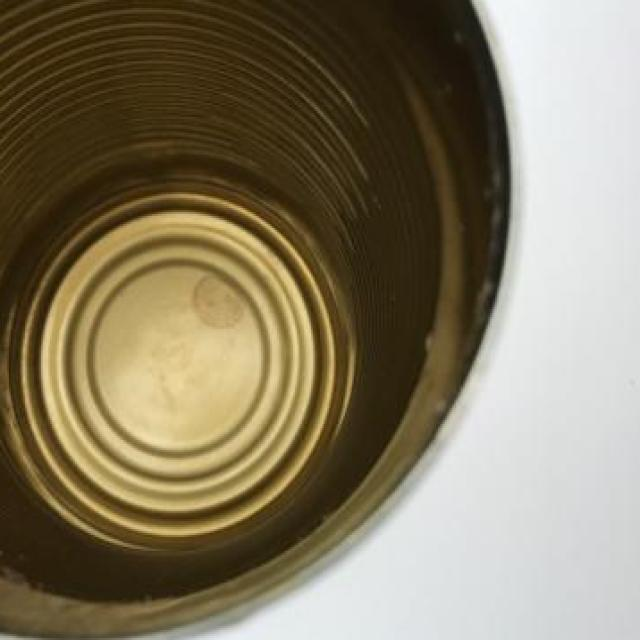organic: (7, 4, 514, 620)
